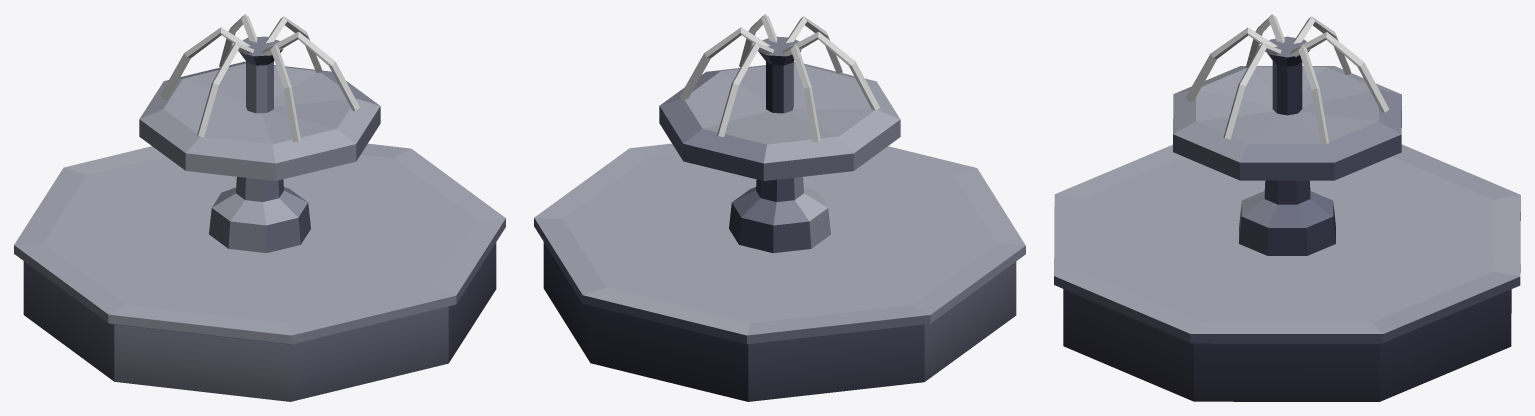
The model's file is fountain.glb.
3 renders of one model, left to right at view 1: azimuth 30°, elevation 25°; view 2: azimuth 150°, elevation 25°; view 3: azimuth 270°, elevation 25°, orthographic.
Parts seen in each view (by area): view 1: fountain; view 2: fountain; view 3: fountain.
Part boxes in pixels (<box>): fountain: <box>14,14,505,401</box>; fountain: <box>534,14,1025,401</box>; fountain: <box>1054,14,1520,401</box>.
Size of the model in its own units: 1.89 by 1.24 by 1.89.
